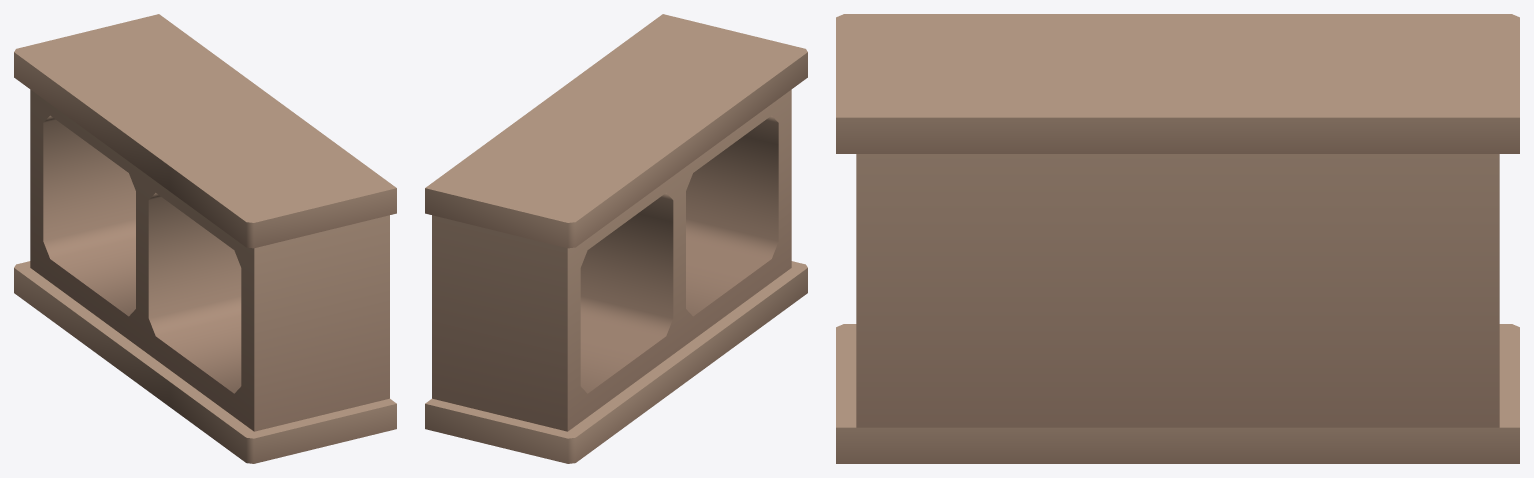
File: cabinet-bookcase-classic-bottom.glb
The picture shows the model from 3 angles, left to right: view 1: azimuth 30°, elevation 25°; view 2: azimuth 150°, elevation 25°; view 3: azimuth 270°, elevation 25°; orthographic projection. The views are drawn at different scales.
Visible parts, largest first — view 1: cabinet-bookcase-classic-bottom; view 2: cabinet-bookcase-classic-bottom; view 3: cabinet-bookcase-classic-bottom.
Boxes of the visible parts, x1,y1,x2,y2 form: cabinet-bookcase-classic-bottom: (14, 14, 396, 463); cabinet-bookcase-classic-bottom: (425, 14, 807, 463); cabinet-bookcase-classic-bottom: (836, 14, 1519, 463).
Bounding box in the file's own units: 0.305 × 0.475 × 0.85.
